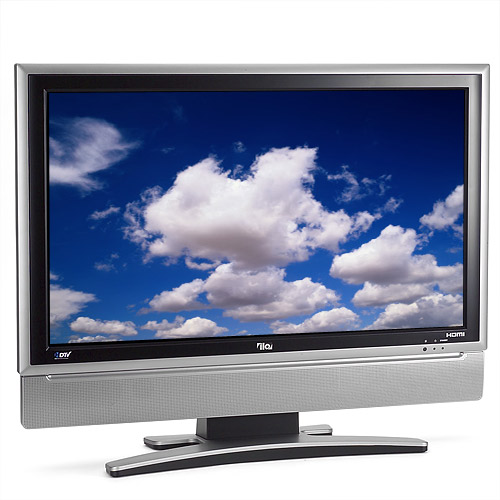tv monitor: (12, 59, 486, 457)
